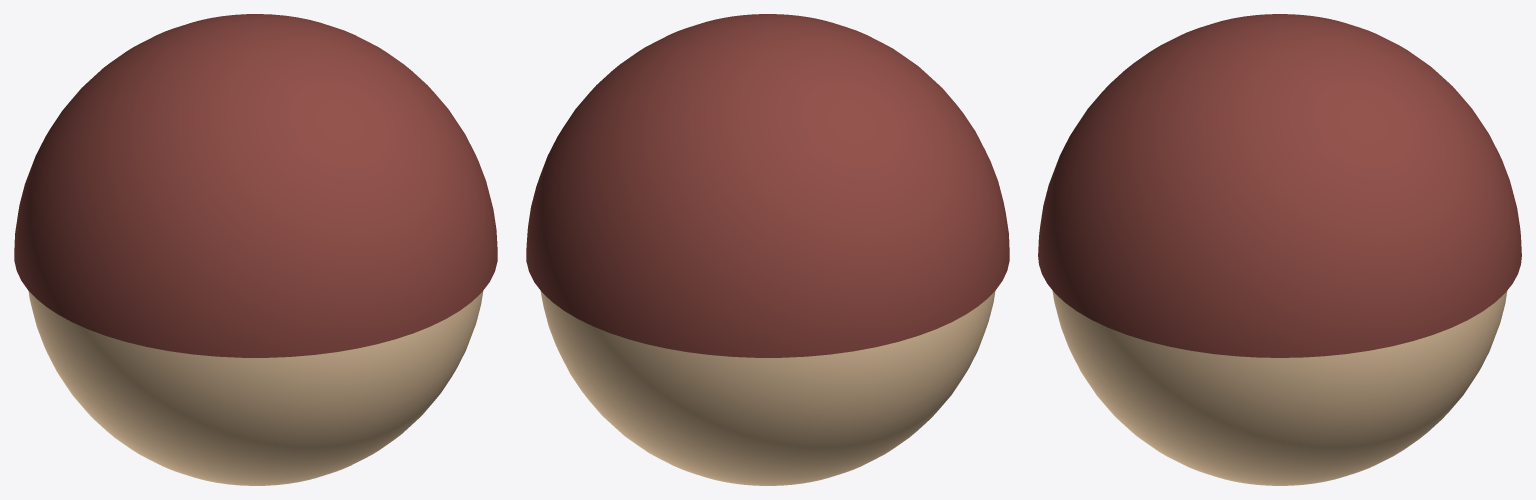
File: seyirci_deneme.fbx
The picture shows the model from 3 angles, left to right: view 1: azimuth 30°, elevation 25°; view 2: azimuth 150°, elevation 25°; view 3: azimuth 270°, elevation 25°; orthographic projection.
Parts seen in each view (by area): view 1: Body5, Body4; view 2: Body5, Body4; view 3: Body5, Body4.
Part boxes in pixels (bbox=[...]): Body5: bbox=[14, 14, 497, 357]; Body4: bbox=[28, 291, 483, 485]; Body5: bbox=[526, 14, 1009, 357]; Body4: bbox=[540, 291, 995, 485]; Body5: bbox=[1038, 14, 1521, 357]; Body4: bbox=[1052, 290, 1507, 485].
Bounding box in the file's own units: 21 × 20.5 × 21.
